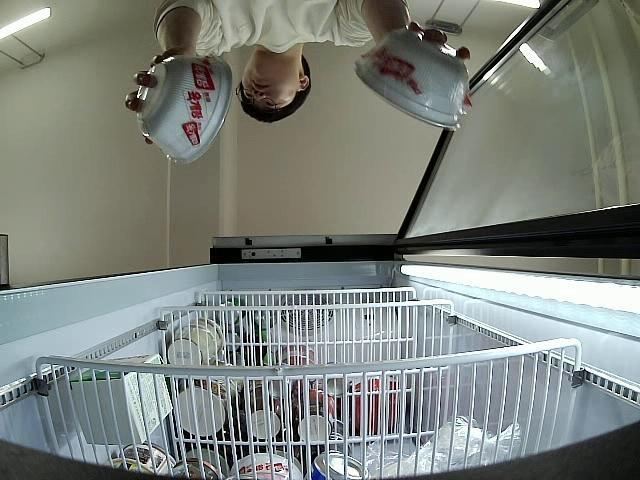09_yukGaeJang: (356, 31, 466, 132), (136, 56, 232, 164)
